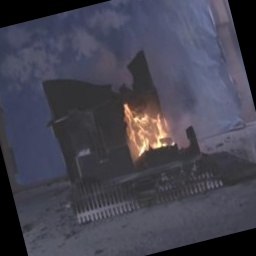fire: (105, 85, 185, 173)
